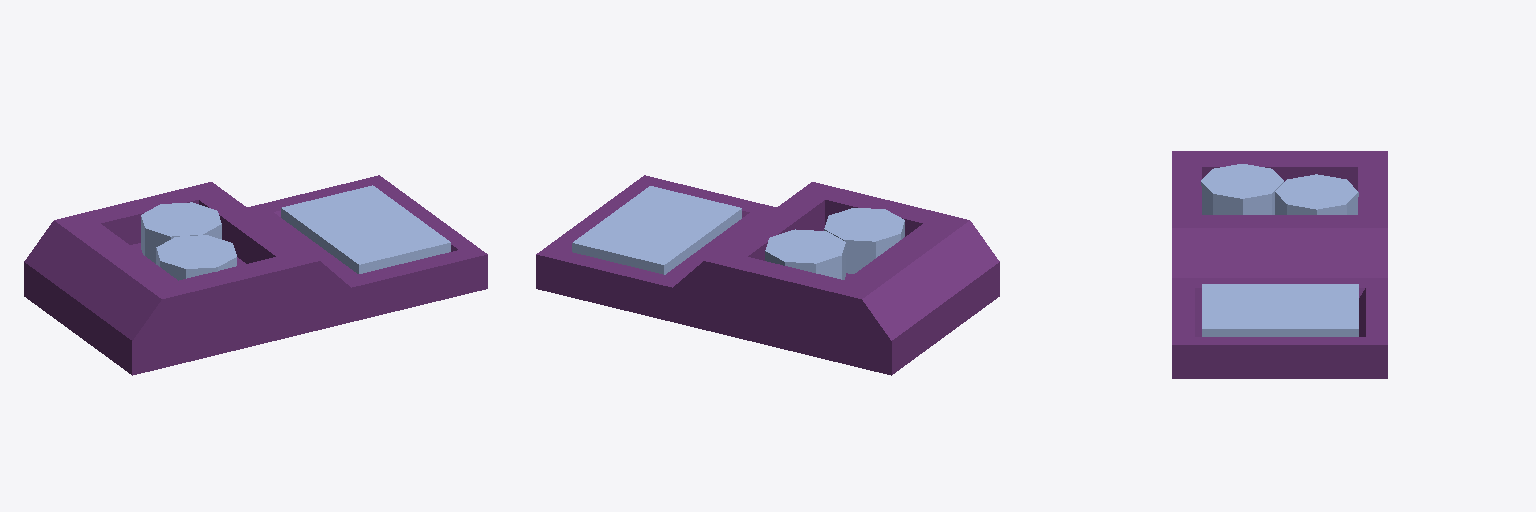
The model's file is audiolog 1.obj.
3 renders of one model, left to right at view 1: azimuth 30°, elevation 25°; view 2: azimuth 150°, elevation 25°; view 3: azimuth 270°, elevation 25°, orthographic.
Visible parts, largest first — view 1: pCube4; view 2: pCube4; view 3: pCube4.
Boxes of the visible parts, x1=… form: pCube4: x1=24, y1=175, x2=487, y2=375; pCube4: x1=536, y1=175, x2=999, y2=375; pCube4: x1=1172, y1=151, x2=1387, y2=378.
Bounding box in the file's own units: 10.78 × 2.13 × 5.69.